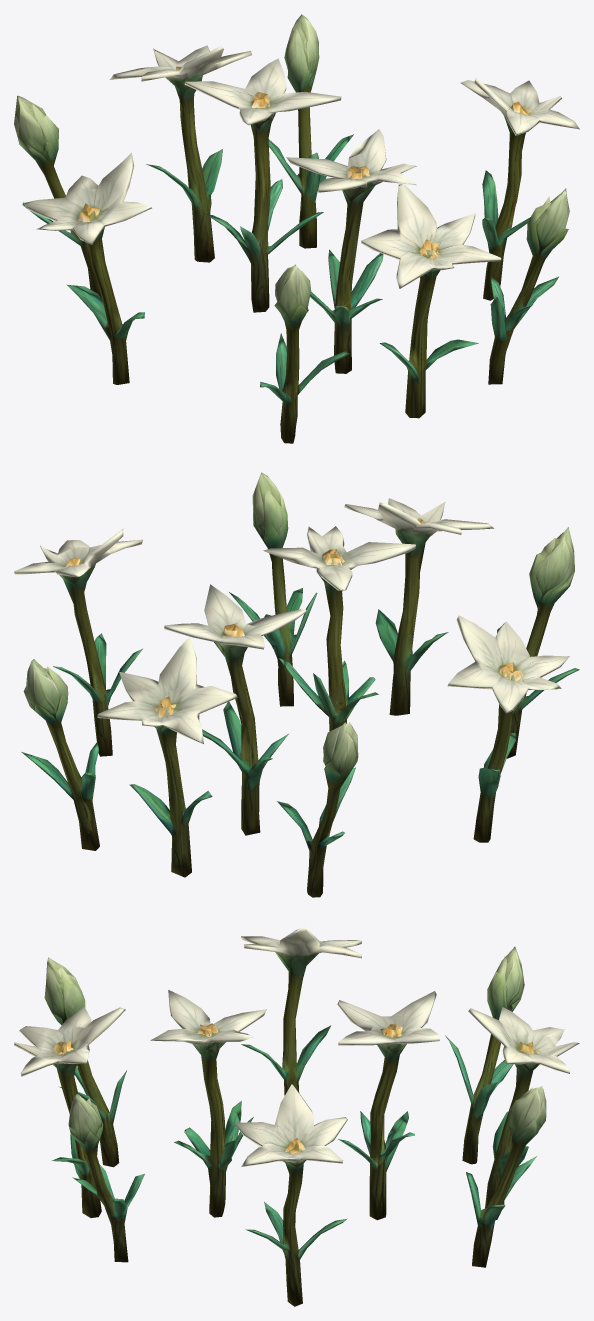
The picture shows the model from 3 angles, top to bottom: view 1: azimuth 30°, elevation 25°; view 2: azimuth 150°, elevation 25°; view 3: azimuth 270°, elevation 25°; orthographic projection. The views are drawn at different scales.
Parts seen in each view (by area): view 1: Mesh_0; view 2: Mesh_0; view 3: Mesh_0.
Part boxes in pixels (x1=…): Mesh_0: x1=14, y1=14, x2=579, y2=443; Mesh_0: x1=14, y1=472, x2=579, y2=897; Mesh_0: x1=14, y1=926, x2=579, y2=1306.
Bounding box in the file's own units: 1.92 × 0.7998 × 1.91.
1 material, 1 textured.
